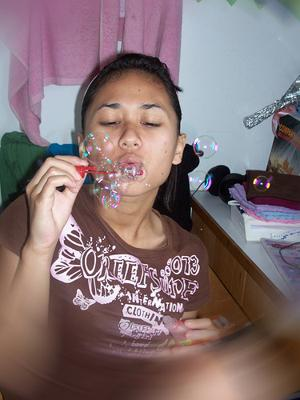person: (4, 54, 234, 400)
